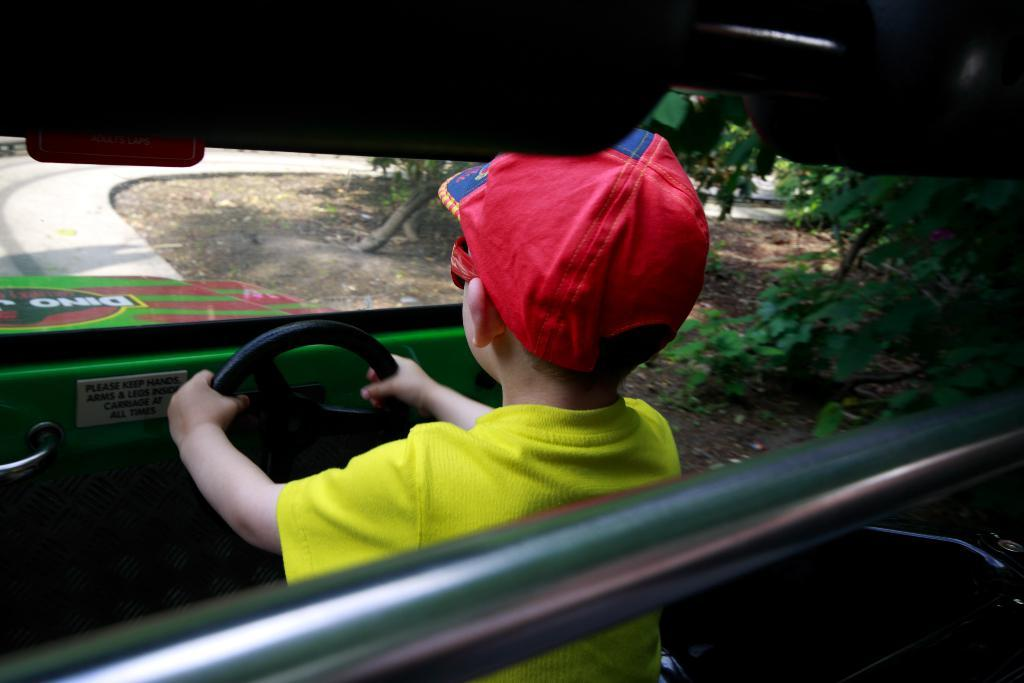Hat: (436, 124, 711, 378)
